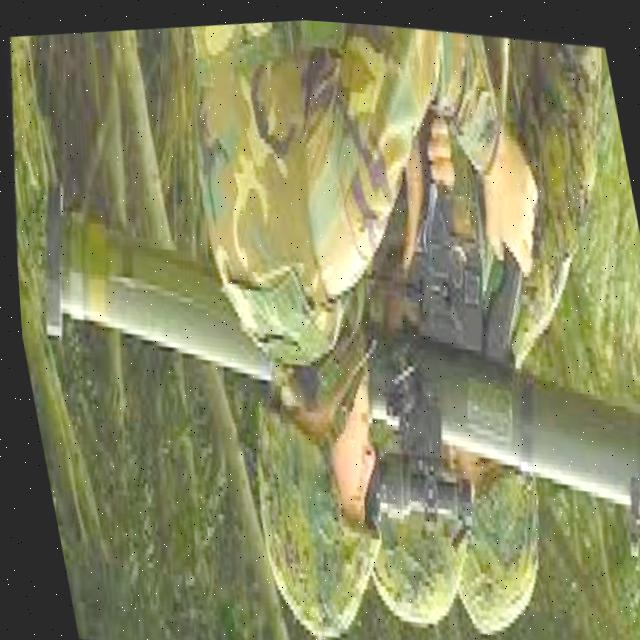rocket: (5, 99, 640, 607)
